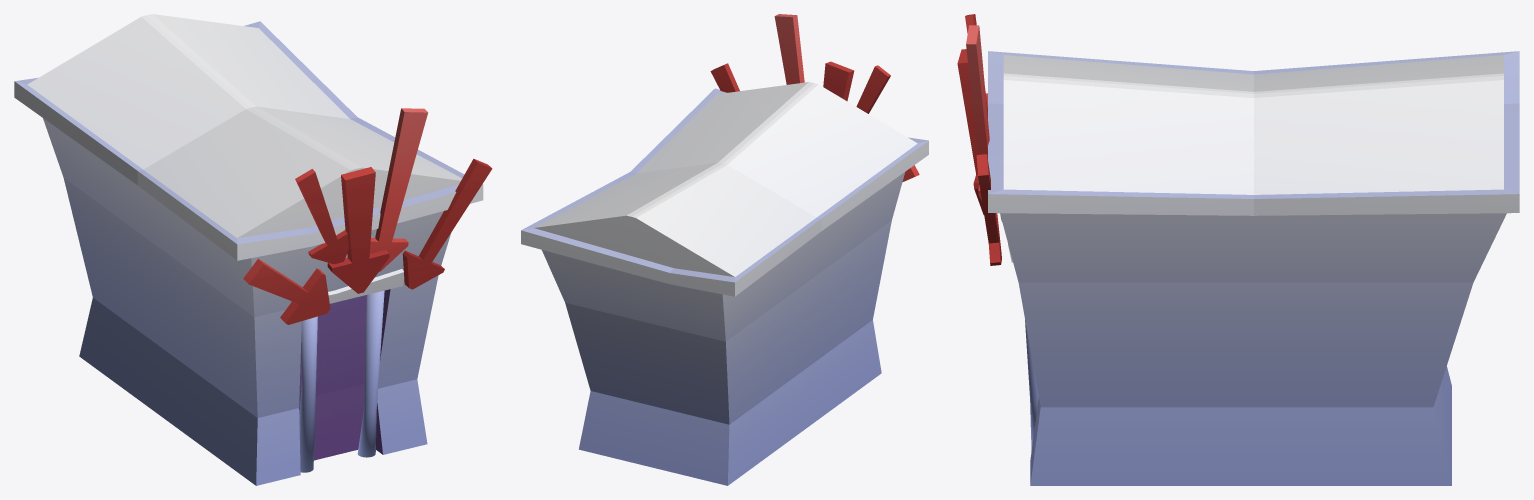
File: SM_BankBIG.fbx
3 renders of one model, left to right at view 1: azimuth 30°, elevation 25°; view 2: azimuth 150°, elevation 25°; view 3: azimuth 270°, elevation 25°, orthographic. The views are drawn at different scales.
Visible parts, largest first — view 1: Cube.053; view 2: Cube.053; view 3: Cube.053.
Part boxes in pixels (bbox=[...]): Cube.053: bbox=[14, 14, 492, 485]; Cube.053: bbox=[521, 14, 928, 485]; Cube.053: bbox=[957, 14, 1519, 485].
Bounding box in the file's own units: 31.98 × 44.24 × 52.05.
